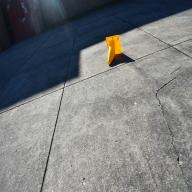cone: (106, 34, 122, 64)
